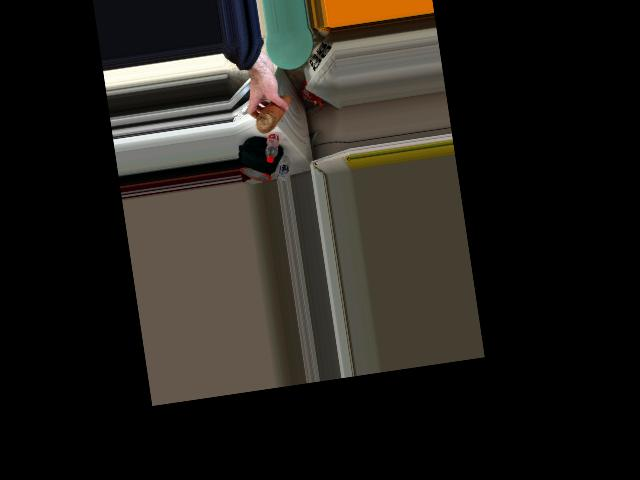sweet_potato: (249, 94, 297, 134)
